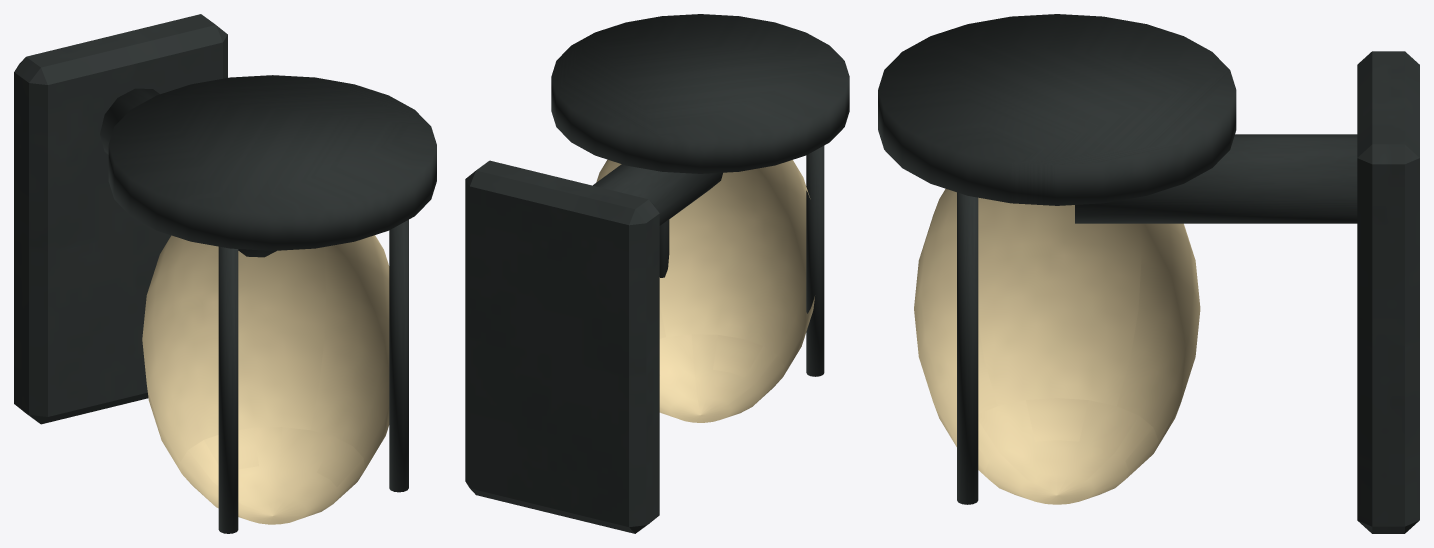
The model's file is wall_lamp.glb.
The picture shows the model from 3 angles, left to right: view 1: azimuth 30°, elevation 25°; view 2: azimuth 150°, elevation 25°; view 3: azimuth 270°, elevation 25°; orthographic projection. The views are drawn at different scales.
Visible parts, largest first — view 1: Lamp_no_light; view 2: Lamp_no_light; view 3: Lamp_no_light.
Boxes of the visible parts, x1,y1,x2,y2 form: Lamp_no_light: (14, 14, 436, 533); Lamp_no_light: (465, 14, 849, 533); Lamp_no_light: (878, 14, 1419, 533).
Bounding box in the file's own units: 0.2 × 0.25 × 0.3025.
Materials: 2 (2 with a texture image).
